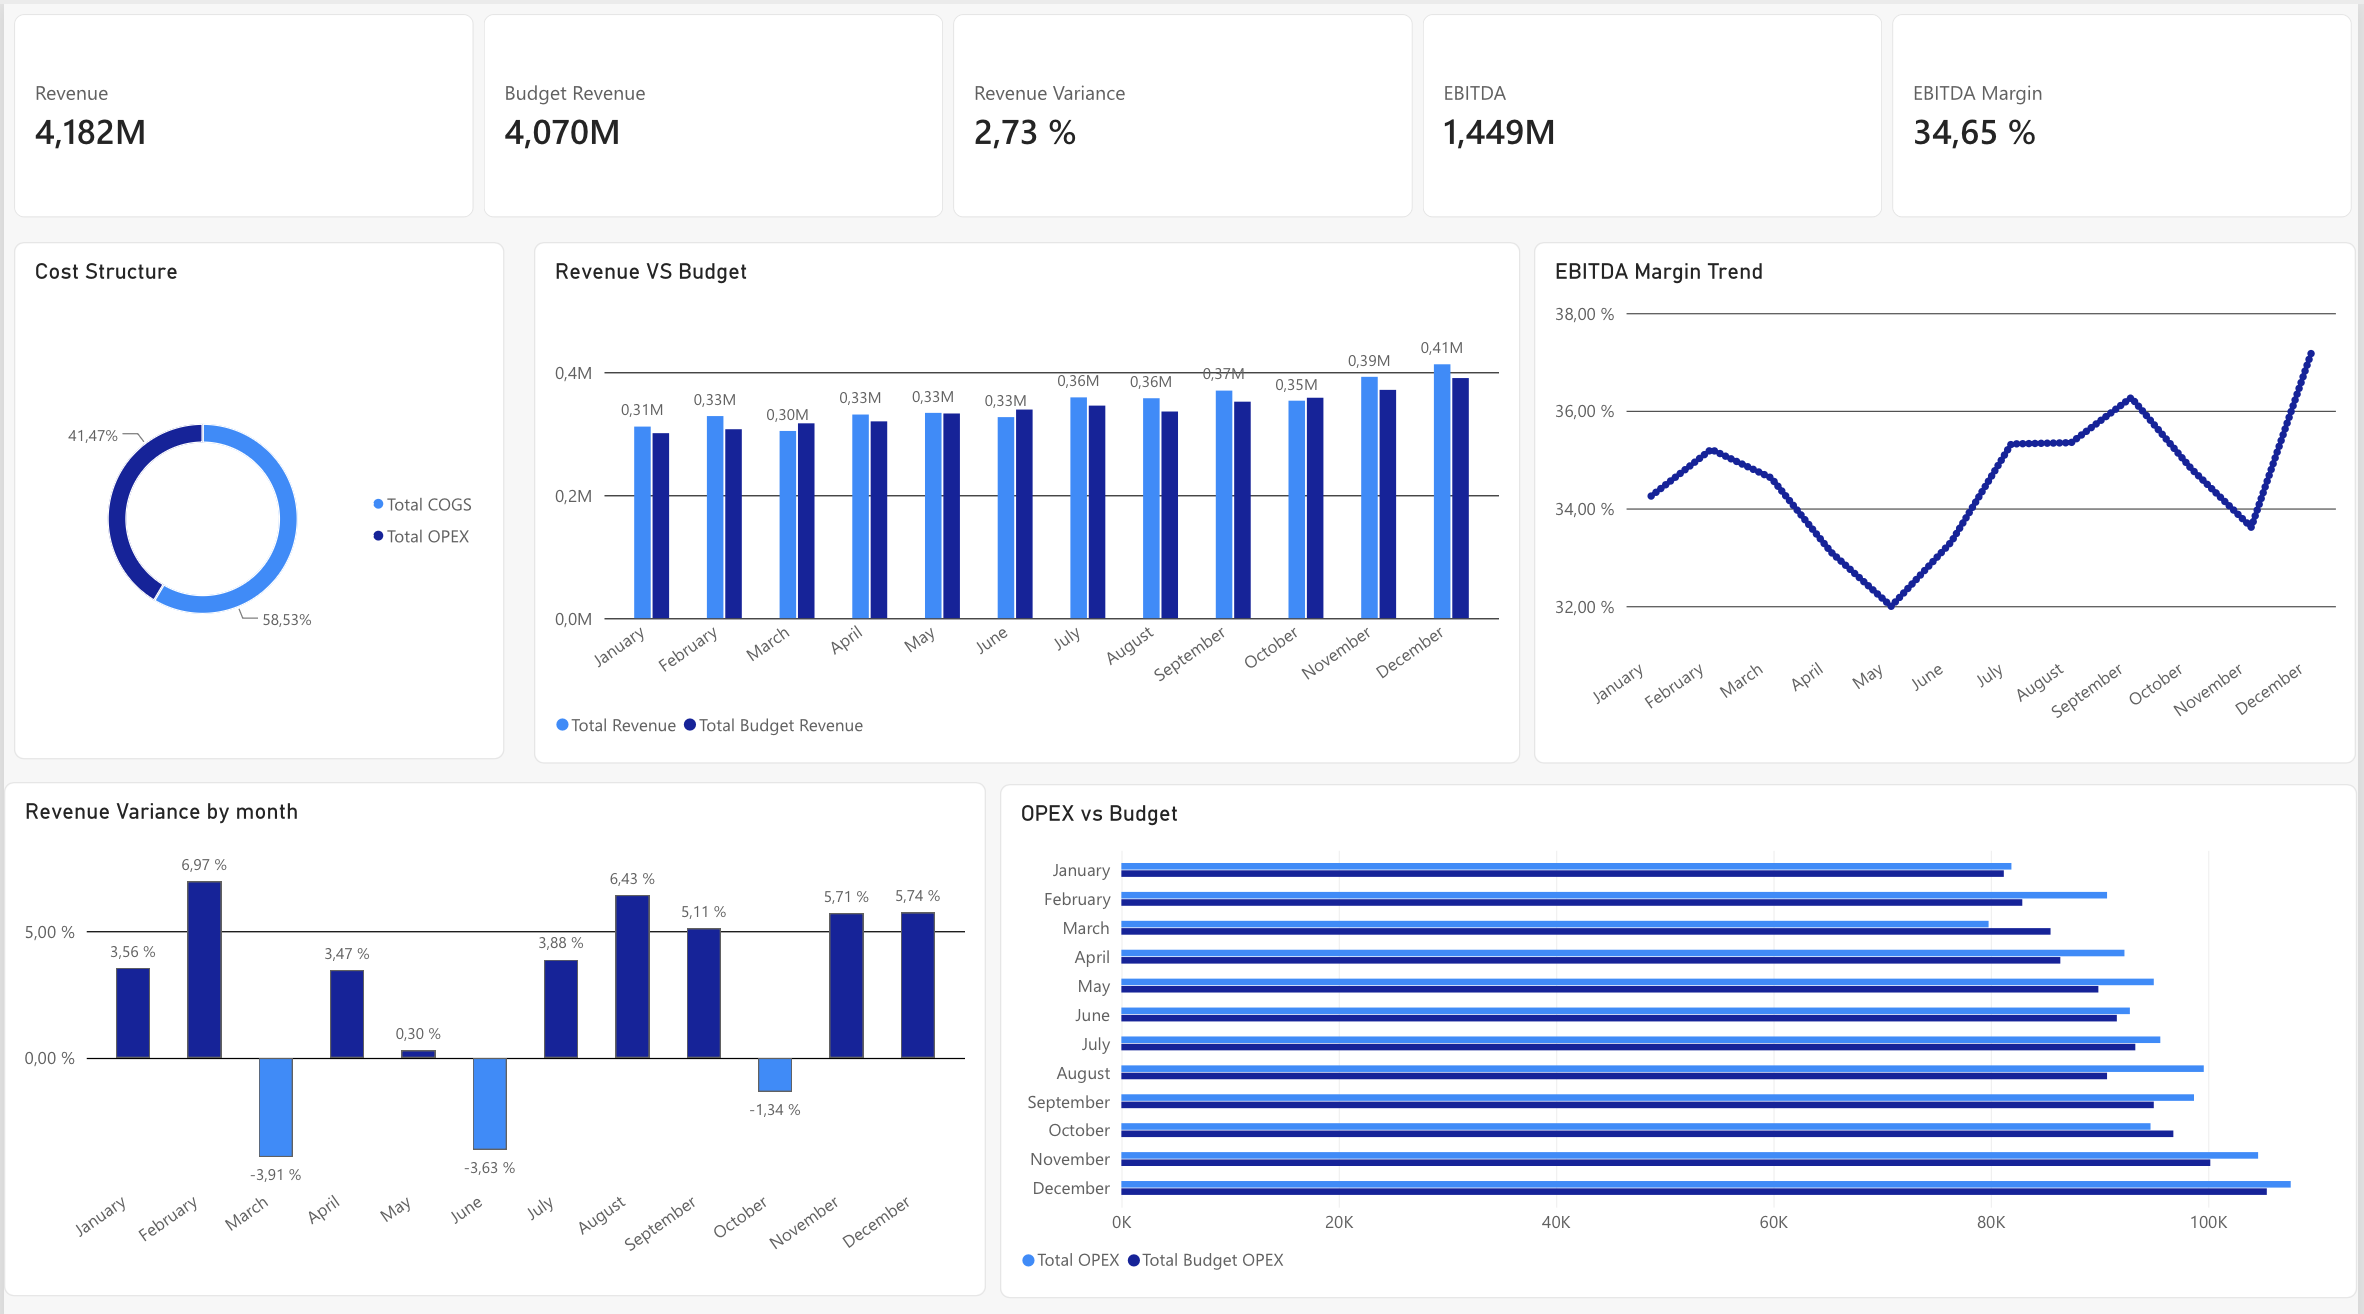

This screenshot's page, from the dashboard's own definition file:
{"tool":"powerbi","page":{"name":"FP&A PERFORMANCE DASHBOARD","canvas":[1920,1080],"ordinal":0},"visuals":[{"type":"cardVisual","fields":{"Data":["DATA V2.Total Revenue","DATA V2.Total Budget Revenue","DATA V2.Revenue Variance % DAX","DATA V2.EBITDA DAX","DATA V2.EBITDA Margin % DAX"]},"box":[8.6,8.6,1911.4,166.7],"z":0},{"type":"clusteredColumnChart","title":"Revenue VS Budget","fields":{"Category":["DATA V2.Date.Variation.Date Hierarchy.Month"],"Y":["DATA V2.Total Revenue","DATA V2.Total Budget Revenue"]},"box":[431.7,194.3,804.4,425.3],"z":1},{"type":"columnChart","title":"Revenue Variance by month","fields":{"Category":["DATA V2.Date.Variation.Date Hierarchy.Month"],"Y":["DATA V2.Revenue Variance % DAX"]},"box":[0,635.6,801.2,418.9],"z":2},{"type":"lineChart","title":"EBITDA Margin Trend","fields":{"Category":["DATA V2.Date.Variation.Date Hierarchy.Month"],"Y":["Min(DATA V2.Date.Variation.Date Hierarchy.Month)","DATA V2.EBITDA Margin % DAX"]},"box":[1248.8,194.3,670.6,425.3],"z":3},{"type":"clusteredBarChart","title":"OPEX vs Budget","fields":{"Category":["DATA V2.Date.Variation.Date Hierarchy.Month"],"Y":["DATA V2.Total OPEX","DATA V2.Total Budget OPEX"]},"box":[812.4,635.6,1107.1,419.5],"z":4},{"type":"donutChart","title":"Cost Structure","fields":{"Y":["DATA V2.Total COGS","DATA V2.Total OPEX"]},"box":[8,194.3,399.8,422.1],"z":5}]}

Visuals, with their boxes in screenshot pixels (x1, y1, x2, y2), scaled from the page's 1920x1080 canvas onto the 2364x1314 screenshot:
cardVisual - DATA V2.Total Revenue x DATA V2.Total Budget Revenue: [11,10,2363,213]
"Revenue VS Budget" clusteredColumnChart: [532,236,1522,754]
"Revenue Variance by month" columnChart: [0,773,986,1283]
"EBITDA Margin Trend" lineChart: [1538,236,2363,754]
"OPEX vs Budget" clusteredBarChart: [1000,773,2363,1284]
"Cost Structure" donutChart: [10,236,502,750]
